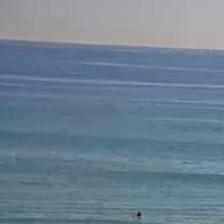surfer: (135, 211, 143, 219)
